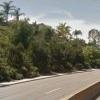Tree: (9, 9, 96, 76)
